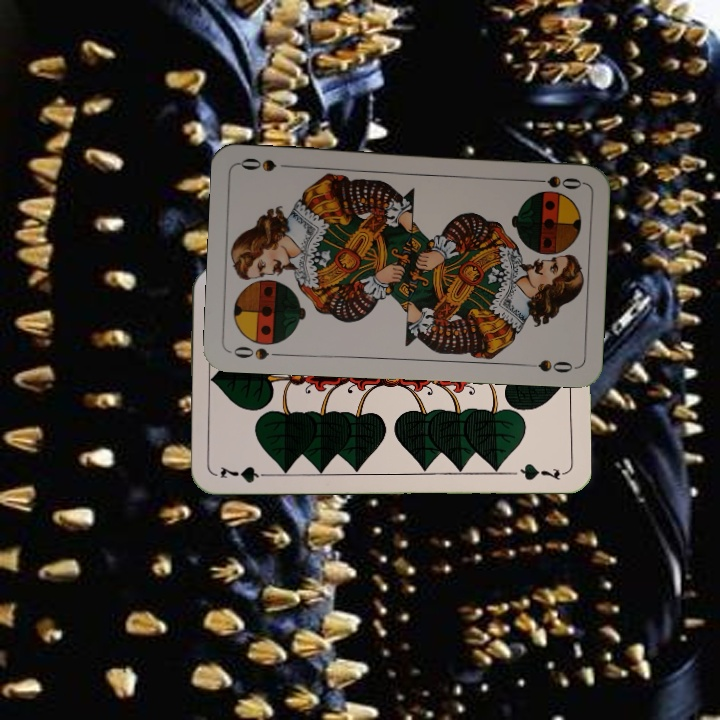G7: (216, 462, 275, 485)
SO: (525, 172, 584, 192), (229, 342, 287, 362)
